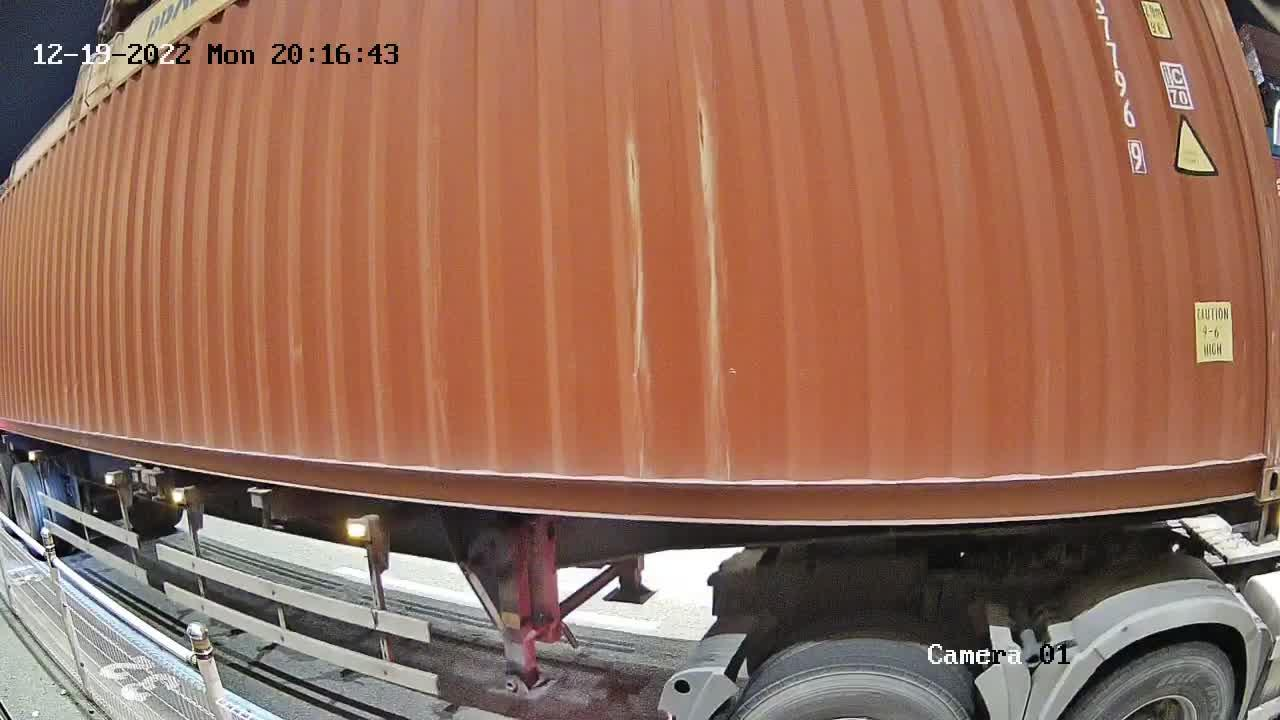Hole_R: (1205, 423, 1279, 502)
Tire: (1072, 642, 1237, 715), (740, 668, 966, 716)
